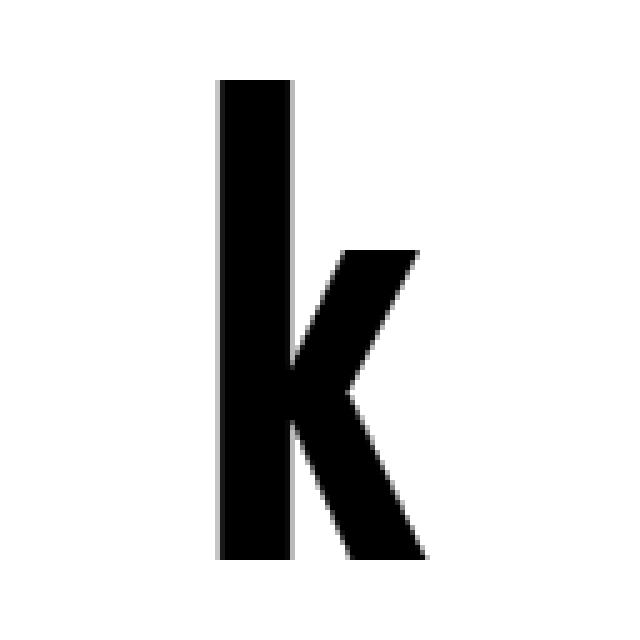K: (205, 70, 430, 565)
